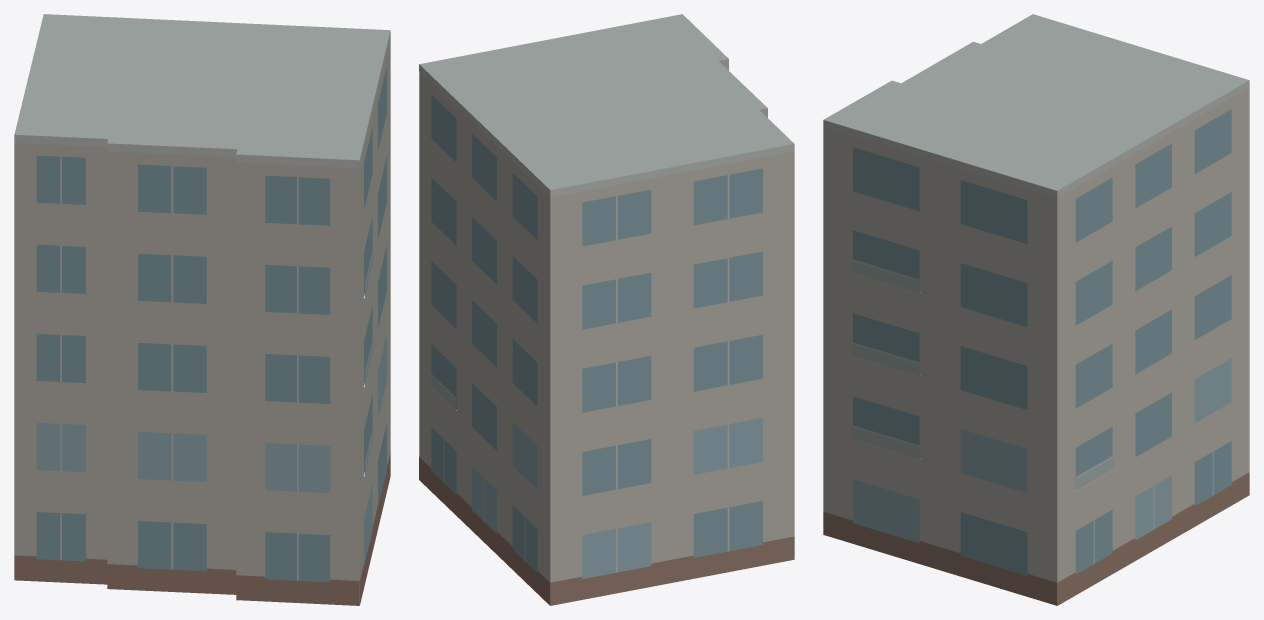
Rendered from survey-upis-32757461.glb.
The picture shows the model from 3 angles, left to right: view 1: azimuth 30°, elevation 25°; view 2: azimuth 150°, elevation 25°; view 3: azimuth 270°, elevation 25°; orthographic projection. The views are drawn at different scales.
Parts seen in each view (by area): view 1: survey-upis-32757461.tmp; view 2: survey-upis-32757461.tmp; view 3: survey-upis-32757461.tmp.
Part boxes in pixels (x1,y1,x2,y2): survey-upis-32757461.tmp: (14, 14, 390, 605); survey-upis-32757461.tmp: (419, 14, 794, 605); survey-upis-32757461.tmp: (823, 14, 1249, 605).
Size of the model in its own units: 12.56 by 13.73 by 12.79.
